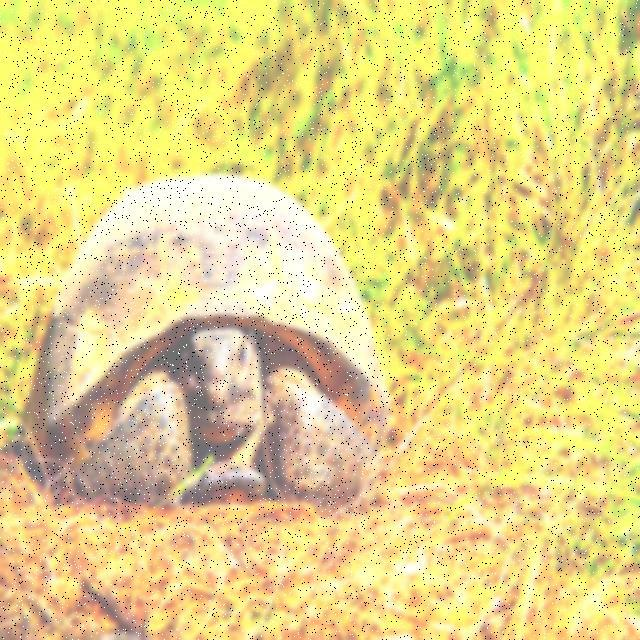tortoise: (23, 179, 420, 507)
